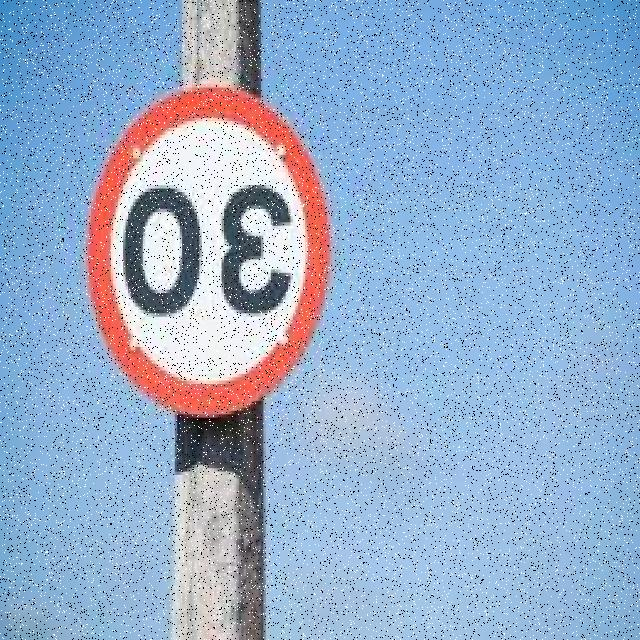speed_limit_30: (80, 75, 342, 423)
